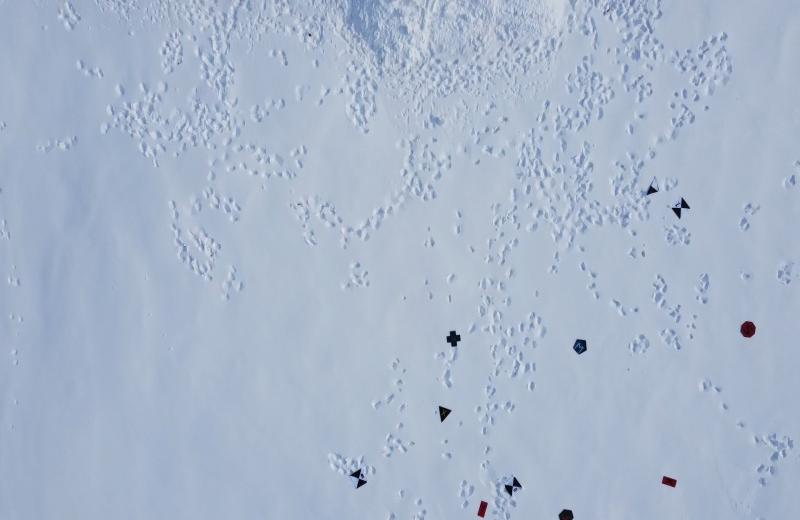Cross: (445, 330, 463, 350)
Hexagon: (557, 507, 575, 520)
Octagon: (739, 319, 757, 340)
Pentagon: (572, 338, 588, 357)
Rectangle: (661, 474, 679, 489), (476, 498, 489, 518)
Triangle: (437, 404, 453, 424)
